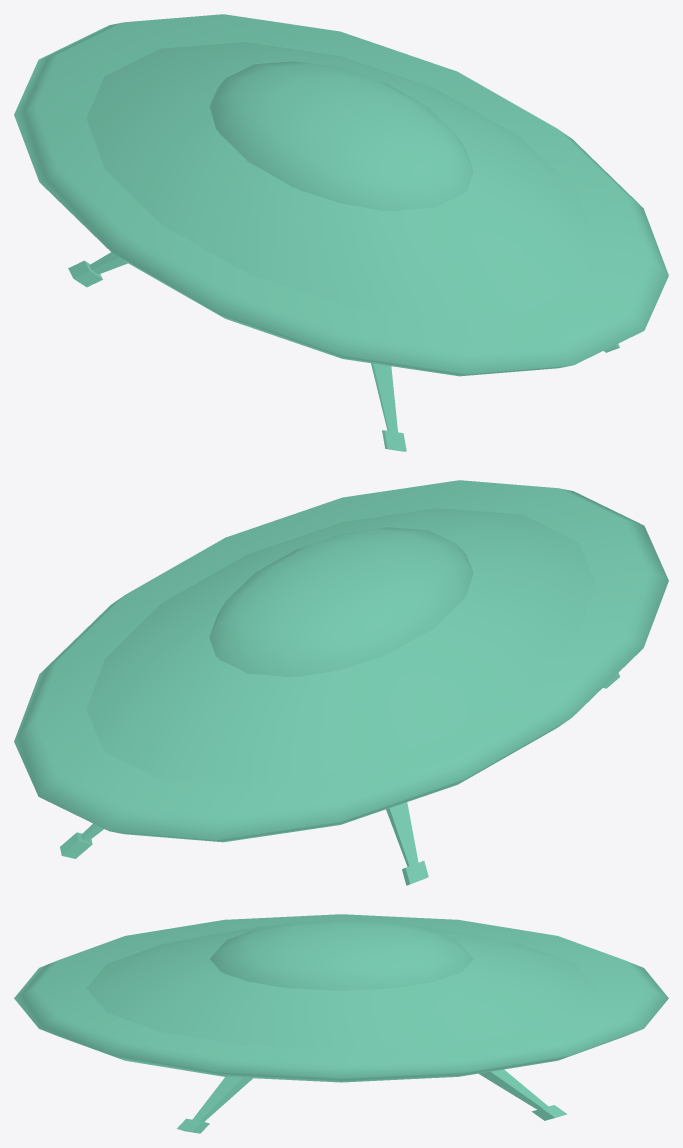
The model's file is Jetski.glb.
3 views of the same model, one above another, from view 1: azimuth 30°, elevation 25°; view 2: azimuth 150°, elevation 25°; view 3: azimuth 270°, elevation 25° (orthographic). The views are drawn at different scales.
Visible parts, largest first — view 1: Mesh.007; view 2: Mesh.007; view 3: Mesh.007.
Part boxes in pixels (x1,y1,x2,y2): Mesh.007: [14, 14, 668, 451]; Mesh.007: [14, 480, 668, 885]; Mesh.007: [14, 914, 668, 1133].
Size of what is drawn, in the model's own units: 2.07 by 0.8686 by 3.61.
Materials: 1 (1 with a texture image).
